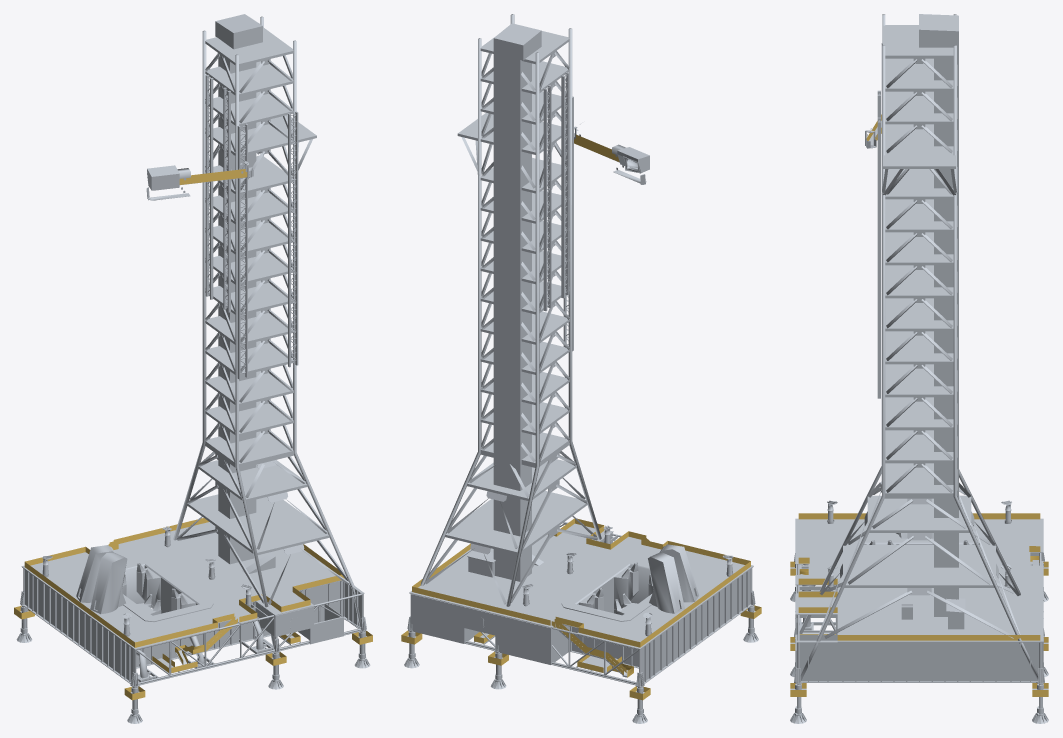
The model's file is mobile-launcher.glb.
The picture shows the model from 3 angles, left to right: view 1: azimuth 30°, elevation 25°; view 2: azimuth 150°, elevation 25°; view 3: azimuth 270°, elevation 25°; orthographic projection. The views are drawn at different scales.
Visible parts, largest first — view 1: ML_HP; view 2: ML_HP; view 3: ML_HP.
Part boxes in pixels (x1,y1,x2,y2): ML_HP: (14,14,372,723); ML_HP: (401,14,761,723); ML_HP: (790,14,1048,723).
Bounding box in the file's own units: 9.93 × 24 × 8.44.
